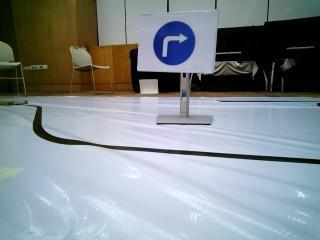right: (141, 15, 217, 75)
